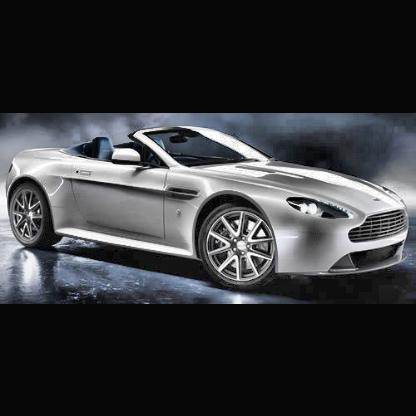Aston Martin V8 Vantage Convertible 2012: (5, 117, 415, 288)
